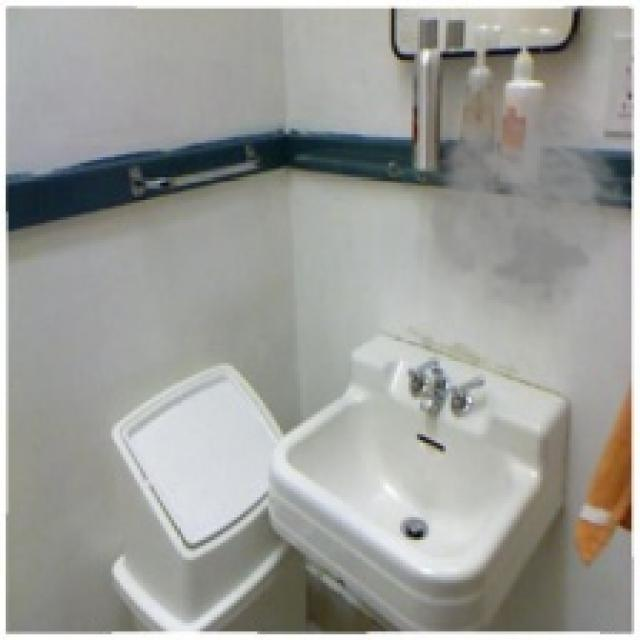smoke: (400, 86, 631, 337)
